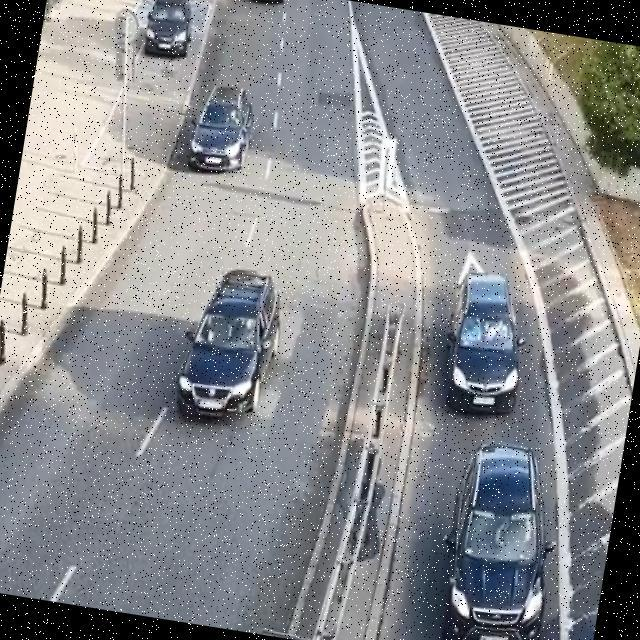car: (442, 446, 554, 640), (178, 270, 278, 414), (449, 274, 522, 412), (189, 86, 252, 171), (145, 0, 190, 56)
